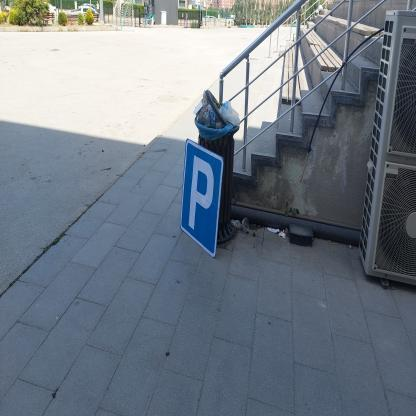parking: (179, 137, 225, 260)
